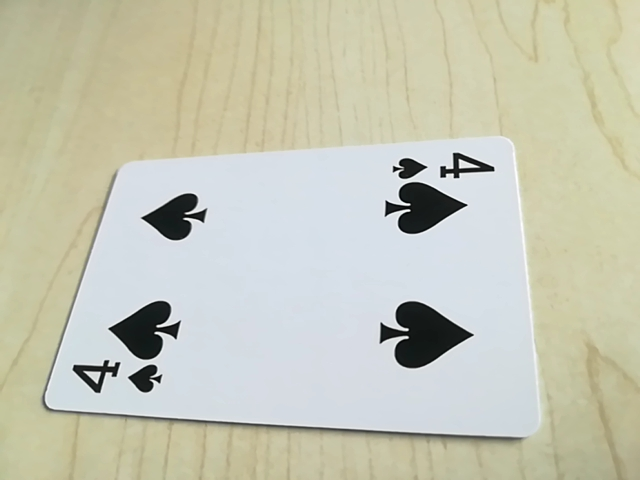ht 4: (60, 355, 171, 406), (386, 147, 496, 184)
